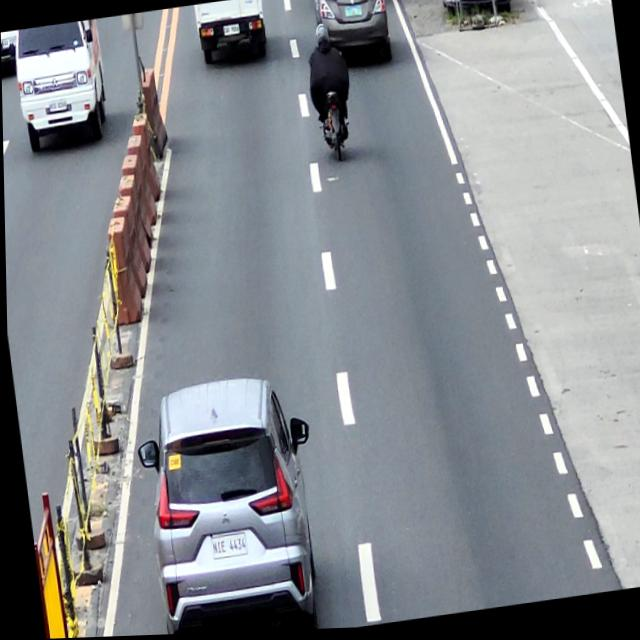Car: (128, 369, 332, 636), (10, 19, 111, 153), (311, 0, 393, 70), (193, 0, 271, 71), (1, 29, 21, 79)
License-Plate: (208, 535, 245, 560), (343, 6, 362, 20), (48, 99, 67, 113), (1, 36, 18, 51), (223, 25, 240, 39)
Motorcycle: (309, 55, 355, 165)
